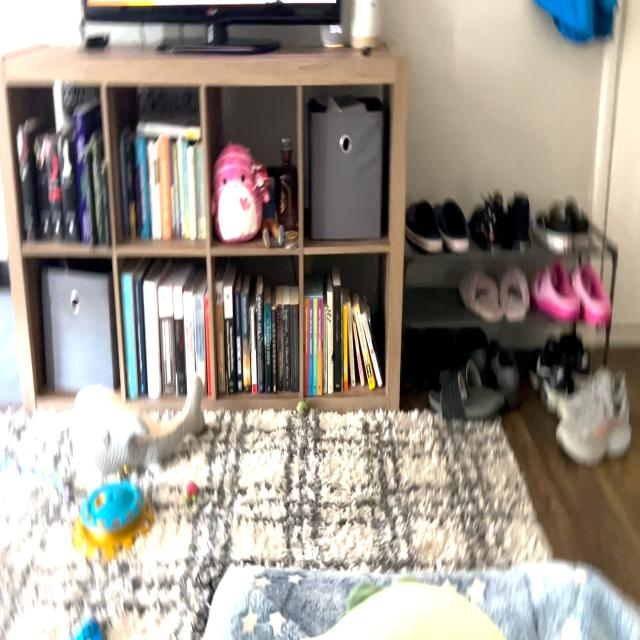drone: (188, 548, 270, 640)
